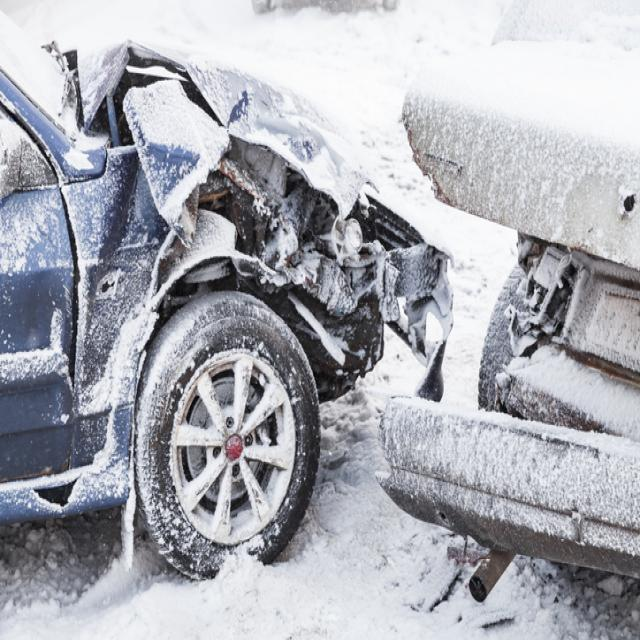Accident: (0, 0, 463, 584)
